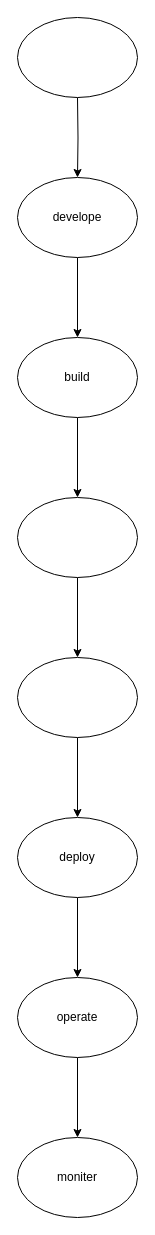
The diagram is 155 pixels wide and 1235 high, and some of its shapes have lost their labels. The box of each missing label's shape, as (x1, y1, x2, y2) in pixels:
release: (16, 656, 138, 738)
text: (16, 496, 138, 578)
